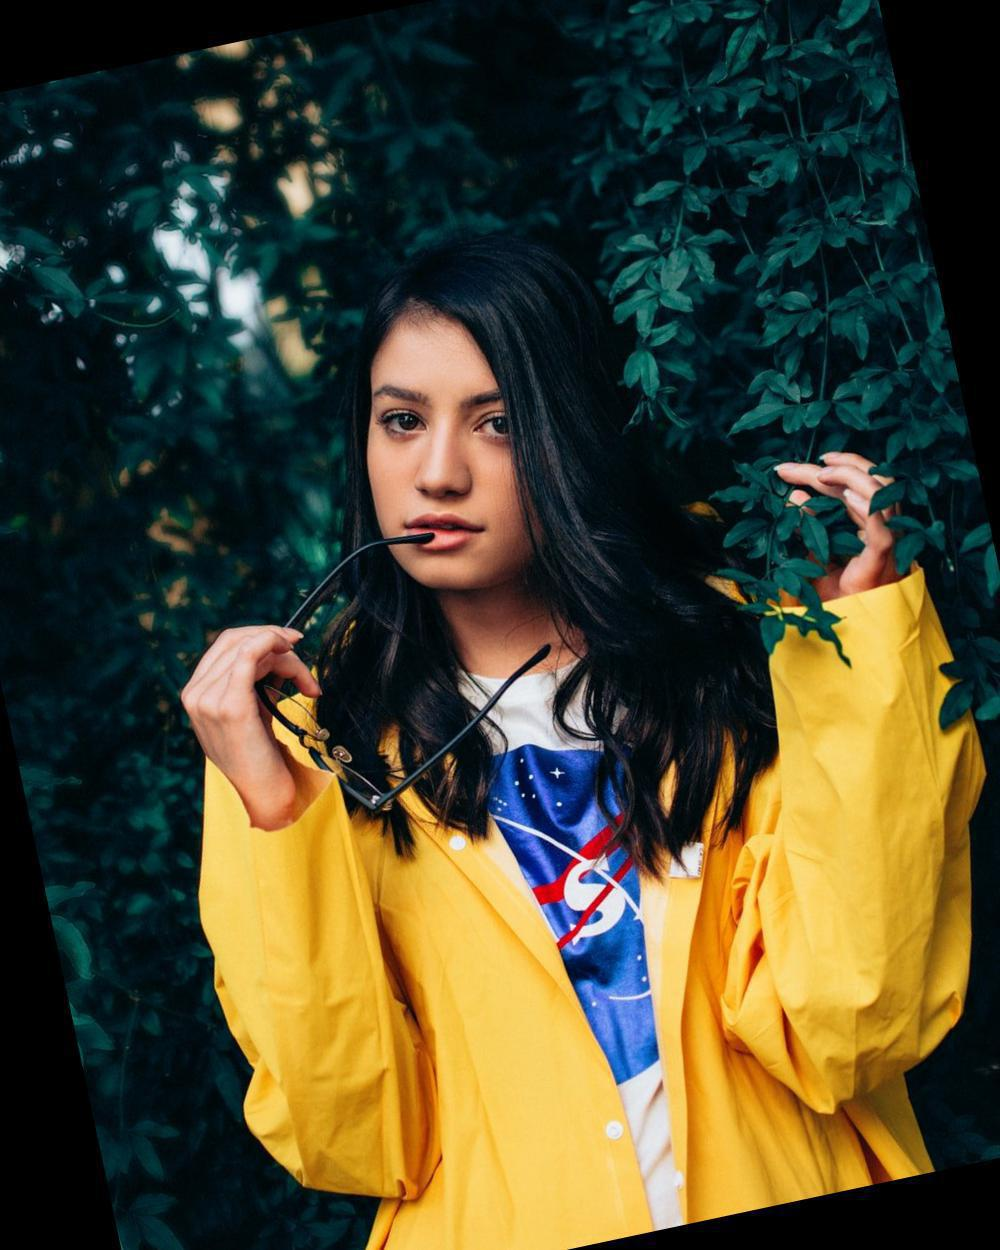Sober: (366, 336, 531, 581)
